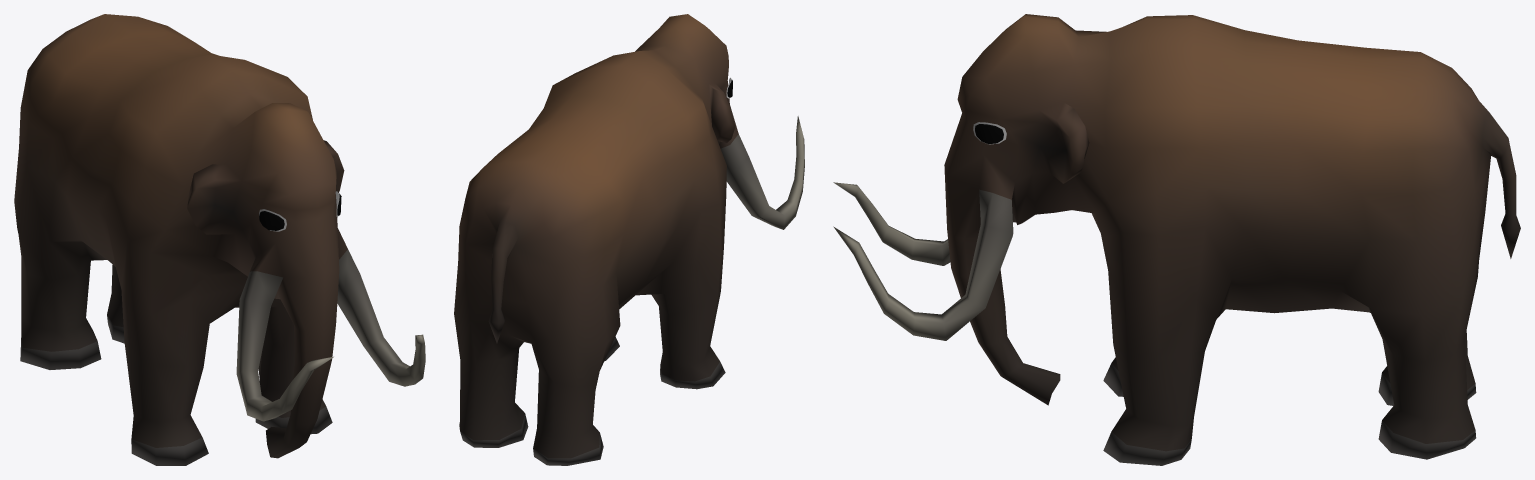
Rendered from Mamot.gltf.
3 renders of one model, left to right at view 1: azimuth 30°, elevation 25°; view 2: azimuth 150°, elevation 25°; view 3: azimuth 270°, elevation 25°, orthographic. The views are drawn at different scales.
Visible parts, largest first — view 1: base.078; view 2: base.078; view 3: base.078.
Part boxes in pixels (x1,y1,x2,y2): base.078: (14,14,425,465); base.078: (454,14,804,465); base.078: (833,14,1520,465).
Bounding box in the file's own units: 2.35 × 4.11 × 6.42.
